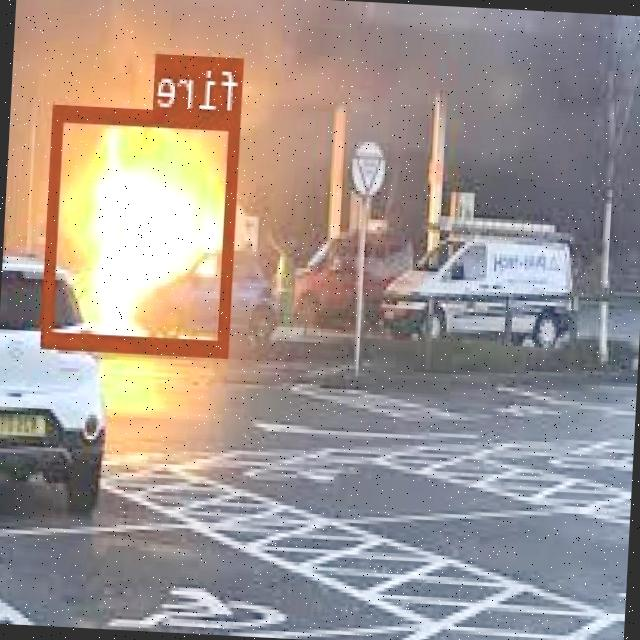fire: (43, 101, 243, 352)
